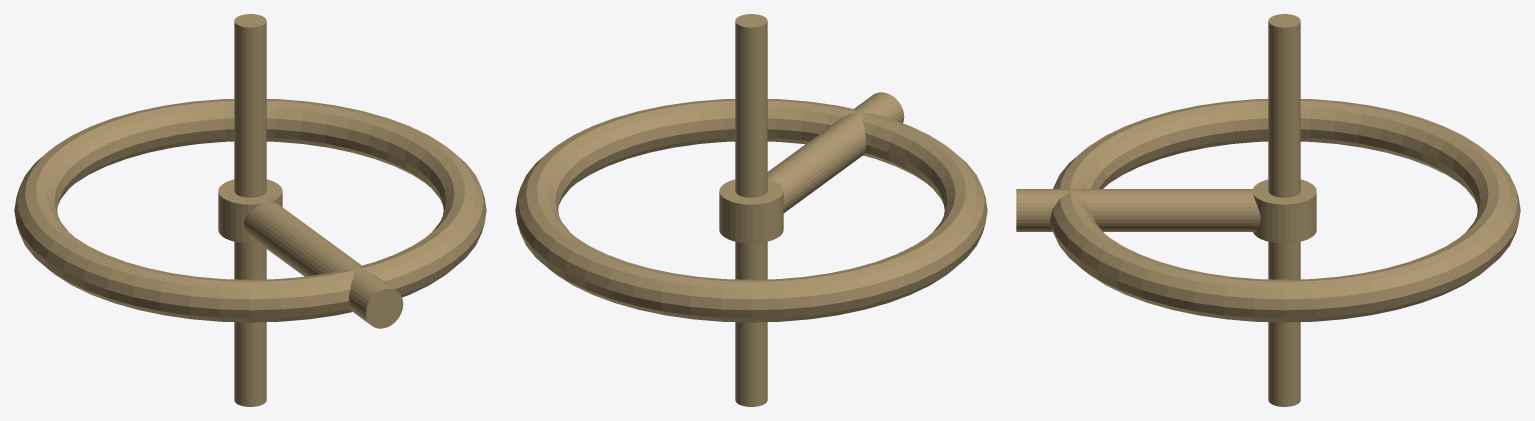
The model's file is ValveWheel.glb.
3 renders of one model, left to right at view 1: azimuth 30°, elevation 25°; view 2: azimuth 150°, elevation 25°; view 3: azimuth 270°, elevation 25°, orthographic.
Parts seen in each view (by area): view 1: ValveWheel_Ring, ValveWheel_Spoke_0, ValveWheel_Pipe, ValveWheel_Spoke_90, ValveWheel_Hub; view 2: ValveWheel_Ring, ValveWheel_Spoke_0, ValveWheel_Pipe, ValveWheel_Hub, ValveWheel_Spoke_90; view 3: ValveWheel_Ring, ValveWheel_Spoke_0, ValveWheel_Pipe, ValveWheel_Hub, ValveWheel_Spoke_90.
Boxes of the visible parts, box(x1,y1,x2,y2) form: ValveWheel_Ring: box(14, 99, 486, 322); ValveWheel_Spoke_0: box(234, 14, 266, 406); ValveWheel_Pipe: box(244, 202, 403, 328); ValveWheel_Spoke_90: box(234, 14, 266, 406); ValveWheel_Hub: box(218, 179, 282, 243); ValveWheel_Ring: box(515, 99, 987, 322); ValveWheel_Spoke_0: box(735, 14, 767, 406); ValveWheel_Pipe: box(767, 92, 904, 212); ValveWheel_Hub: box(719, 179, 783, 243); ValveWheel_Spoke_90: box(735, 14, 767, 404); ValveWheel_Ring: box(1050, 99, 1520, 322); ValveWheel_Spoke_0: box(1268, 14, 1300, 406); ValveWheel_Pipe: box(1016, 189, 1260, 231); ValveWheel_Hub: box(1252, 179, 1316, 243); ValveWheel_Spoke_90: box(1268, 14, 1300, 403).
Bounding box in the file's own units: 0.88 × 0.78 × 0.94.
